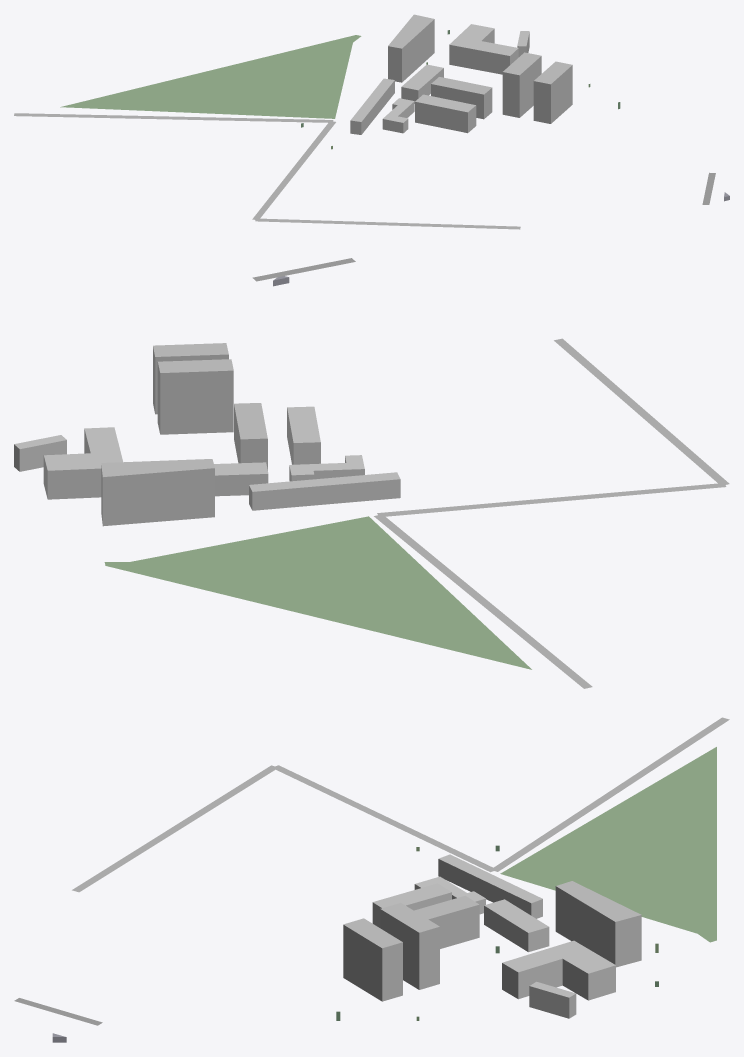
3 views of the same model, one above another, from view 1: azimuth 30°, elevation 25°; view 2: azimuth 150°, elevation 25°; view 3: azimuth 270°, elevation 25° (orthographic). The views are drawn at different scales.
Size of the model in its own units: 547 by 63.09 by 539.
